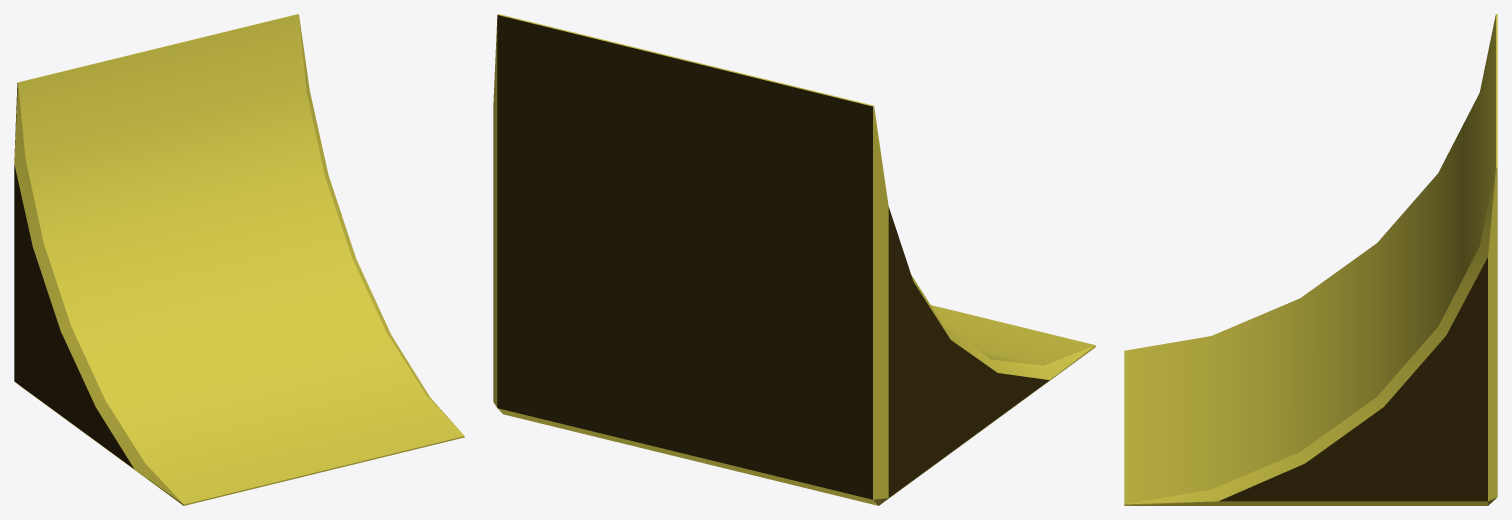
Rendered from VeryVognut.fbx.
3 renders of one model, left to right at view 1: azimuth 30°, elevation 25°; view 2: azimuth 150°, elevation 25°; view 3: azimuth 270°, elevation 25°, orthographic. The views are drawn at different scales.
Parts seen in each view (by area): view 1: Cube; view 2: Cube; view 3: Cube.
Part boxes in pixels (x1,y1,x2,y2): Cube: [14, 14, 464, 505]; Cube: [493, 14, 1095, 505]; Cube: [1124, 14, 1497, 505].
Size of the model in its own units: 2 by 1.95 by 1.95.
